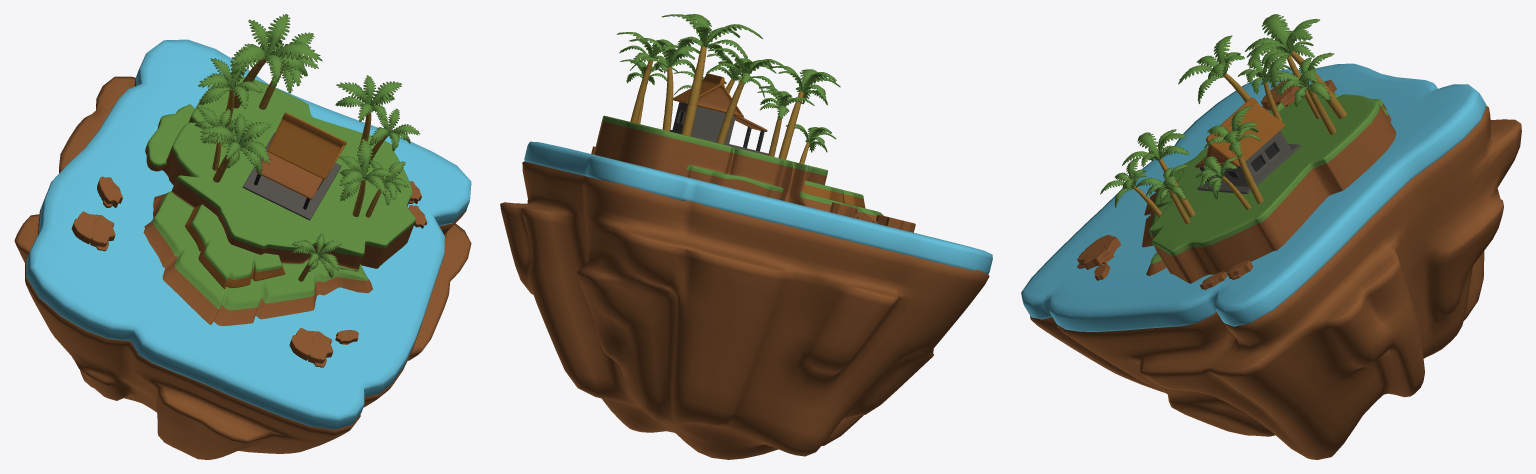
File: rainforest.glb
The picture shows the model from 3 angles, left to right: view 1: azimuth 30°, elevation 25°; view 2: azimuth 150°, elevation 25°; view 3: azimuth 270°, elevation 25°; orthographic projection. The views are drawn at different scales.
Visible parts, largest first — view 1: Cube.116_Web, Cube.103_Web, Cube.101_Web, Plane.359_Web, Cube.105_Web, Cube.107_Web, Cylinder.089_Web, Cube.108_Web, Cube.114_Web, Cube.109_Web, Cube.113_Web; view 2: Cube.101_Web, Cube.116_Web, Cube.103_Web, Plane.359_Web, Cylinder.089_Web, Cube.106_Web, Cube.107_Web, Cube.105_Web, Cube.114_Web; view 3: Cube.101_Web, Cube.116_Web, Cube.103_Web, Plane.359_Web, Cylinder.089_Web, Cube.107_Web, Cube.106_Web, Cube.113_Web, Cube.114_Web, Cube.111_Web, Cube.108_Web.
Boxes of the visible parts, x1,y1,x2,y2 form: Cube.116_Web: (26, 39, 471, 429); Cube.103_Web: (143, 75, 415, 326); Cube.101_Web: (14, 76, 471, 459); Plane.359_Web: (194, 14, 420, 277); Cube.105_Web: (185, 204, 285, 288); Cube.107_Web: (267, 112, 346, 179); Cylinder.089_Web: (212, 58, 388, 281); Cube.108_Web: (242, 133, 341, 220); Cube.114_Web: (71, 176, 122, 251); Cube.109_Web: (256, 151, 323, 199); Cube.113_Web: (289, 328, 358, 367); Cube.101_Web: (500, 161, 989, 459); Cube.116_Web: (524, 141, 992, 273); Cube.103_Web: (593, 115, 883, 222); Plane.359_Web: (616, 14, 840, 152); Cylinder.089_Web: (630, 46, 809, 163); Cube.106_Web: (672, 102, 735, 143); Cube.107_Web: (673, 73, 743, 117); Cube.105_Web: (802, 180, 865, 208); Cube.114_Web: (830, 202, 915, 232); Cube.101_Web: (1030, 106, 1521, 459); Cube.116_Web: (1021, 63, 1486, 331); Cube.103_Web: (1142, 91, 1396, 283); Plane.359_Web: (1100, 14, 1334, 207); Cylinder.089_Web: (1133, 50, 1346, 224); Cube.107_Web: (1205, 97, 1285, 166); Cube.106_Web: (1221, 131, 1291, 186); Cube.113_Web: (1077, 235, 1121, 280); Cube.114_Web: (1261, 79, 1336, 110); Cube.111_Web: (1200, 260, 1253, 289); Cube.108_Web: (1197, 143, 1300, 193).
Size of the model in its own units: 8 by 7.03 by 7.59.
